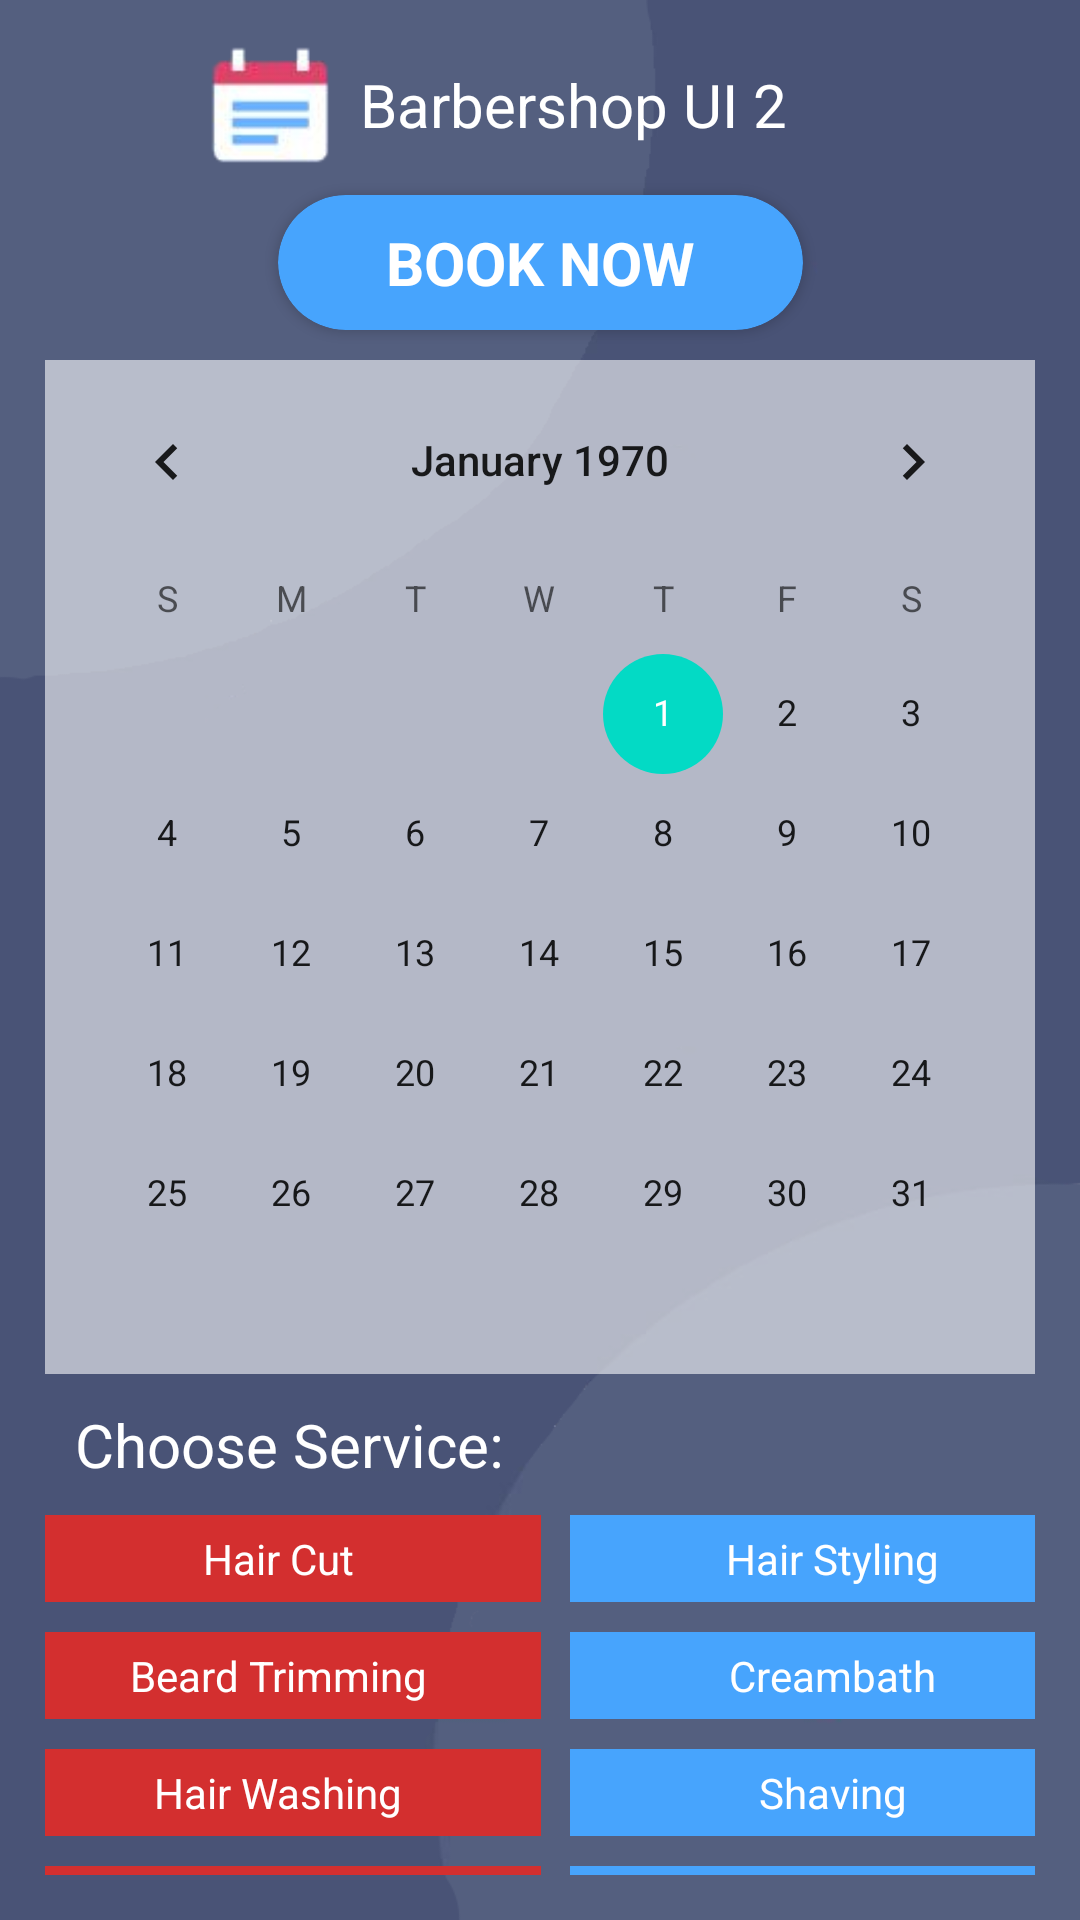

Icon click points for this 1080px x 1920px phone screenshot, format [x,y]:
calendar: [270,105]
